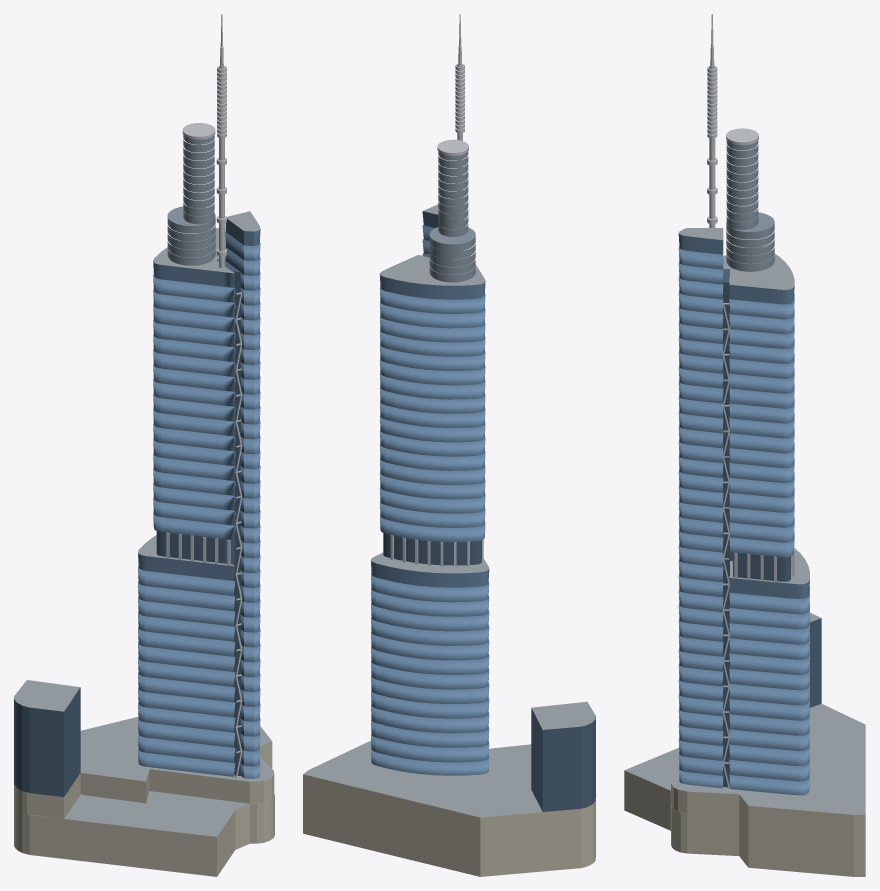
The model's file is nanjing-zifeng-tower.detail.glb.
3 renders of one model, left to right at view 1: azimuth 30°, elevation 25°; view 2: azimuth 150°, elevation 25°; view 3: azimuth 270°, elevation 25°, orthographic. The views are drawn at different scales.
Parts seen in each view (by area): view 1: Zifeng Tower; view 2: Zifeng Tower; view 3: Zifeng Tower.
Boxes of the visible parts, x1,y1,x2,y2 form: Zifeng Tower: [14, 14, 274, 876]; Zifeng Tower: [303, 14, 595, 876]; Zifeng Tower: [624, 14, 865, 876].
Bounding box in the file's own units: 149 × 450 × 120.
